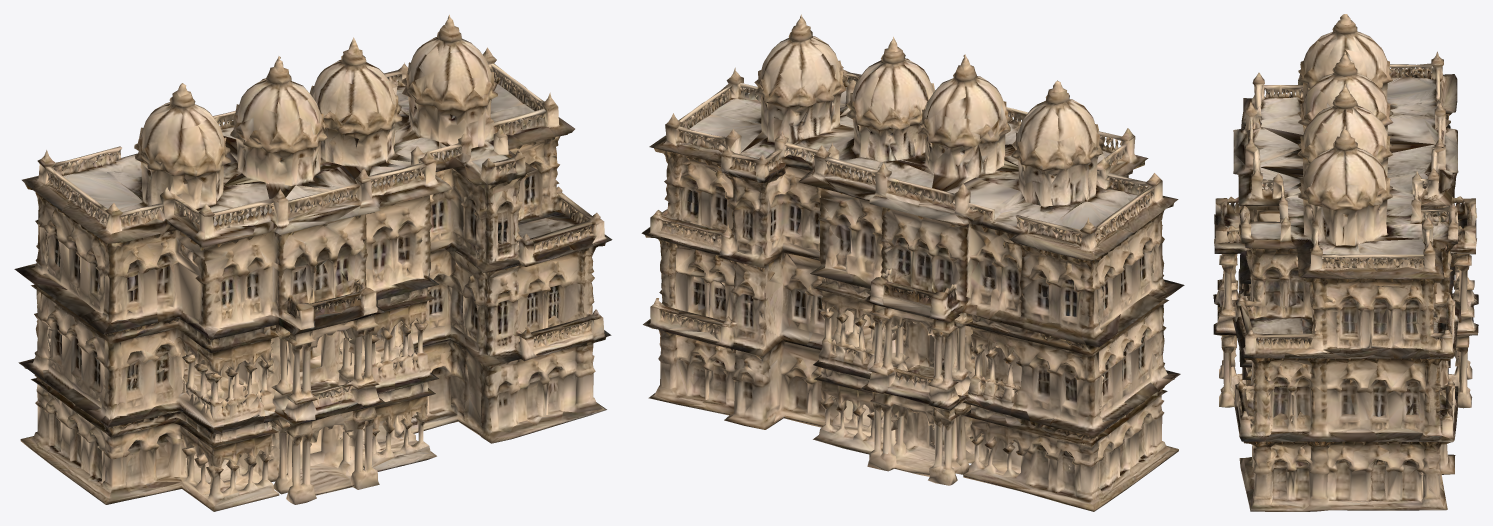
File: Palace_of_the_Four_Do.glb
3 renders of one model, left to right at view 1: azimuth 30°, elevation 25°; view 2: azimuth 150°, elevation 25°; view 3: azimuth 270°, elevation 25°, orthographic. The views are drawn at different scales.
Parts seen in each view (by area): view 1: Palace_of_the_Four_Do; view 2: Palace_of_the_Four_Do; view 3: Palace_of_the_Four_Do.
Part boxes in pixels (box(x1,y1,x2,y2)): Palace_of_the_Four_Do: box(14, 14, 612, 511); Palace_of_the_Four_Do: box(641, 14, 1184, 511); Palace_of_the_Four_Do: box(1213, 14, 1478, 511).
Bounding box in the file's own units: 1.9 × 1.46 × 1.02.
1 material, 1 textured.
